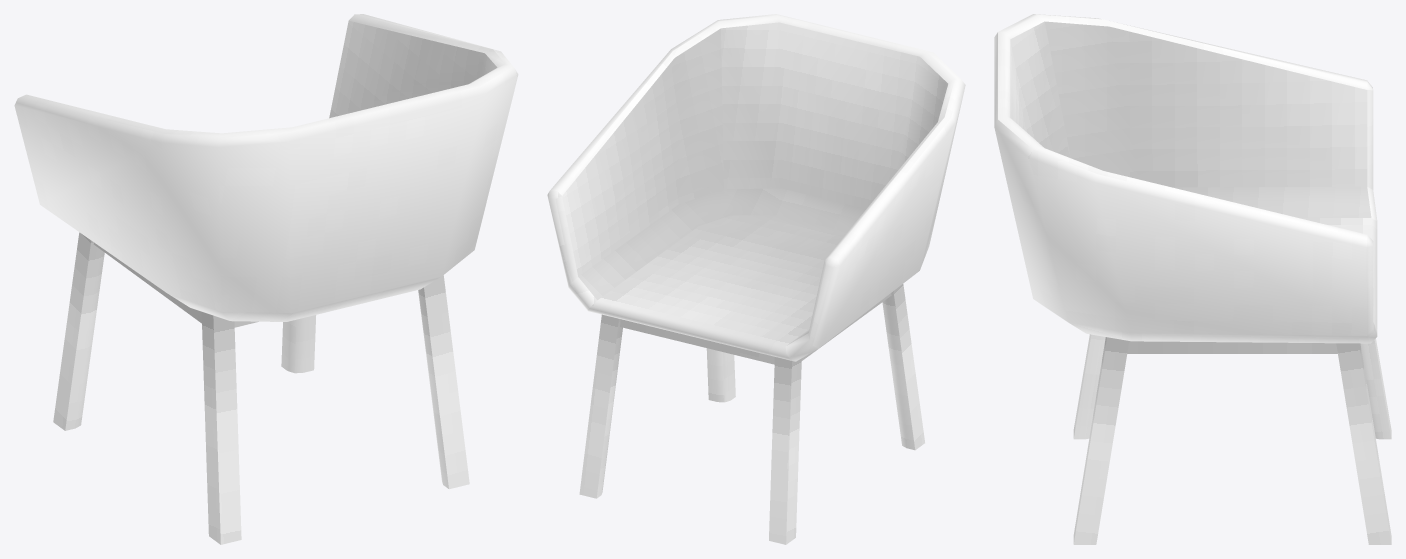
File: DiningChair.glb
3 views of the same model, side by side, from view 1: azimuth 30°, elevation 25°; view 2: azimuth 150°, elevation 25°; view 3: azimuth 270°, elevation 25° (orthographic). The views are drawn at different scales.
Visible parts, largest first — view 1: DiningChair, DiningChair.001; view 2: DiningChair, DiningChair.001; view 3: DiningChair, DiningChair.001.
Part boxes in pixels (x1,y1,x2,y2): DiningChair: (14, 14, 518, 321); DiningChair.001: (53, 232, 469, 544); DiningChair: (547, 14, 965, 361); DiningChair.001: (579, 284, 924, 544); DiningChair: (994, 14, 1377, 343); DiningChair.001: (1073, 334, 1391, 544).
Size of the model in its own units: 0.6118 by 0.723 by 0.6295.
1 material, 1 textured.
